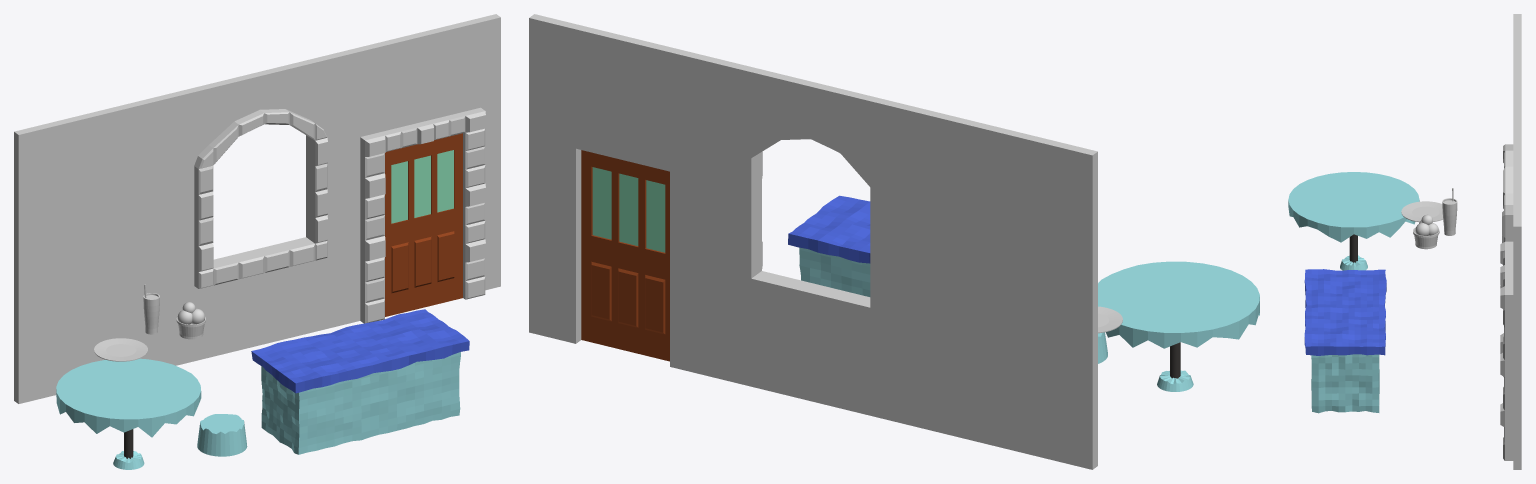
The model's file is PenguinRestaurantModels.fbx.
3 renders of one model, left to right at view 1: azimuth 30°, elevation 25°; view 2: azimuth 150°, elevation 25°; view 3: azimuth 270°, elevation 25°, orthographic. The views are drawn at different scales.
Parts seen in each view (by area): view 1: Wall_Basic, Wall_Window, Wall_Door_Frame, Bar, Door, Table, Chair, Plate, IceCream, Milkshake; view 2: Wall_Basic, Wall_Window, Wall_Door_Frame, Door, Table, Bar; view 3: Bar, Table, Wall_Door_Frame, Wall_Window, Plate, IceCream, Wall_Basic, Milkshake.
Boxes of the visible parts, left/top/right/bottom form: Wall_Basic: left=14, top=92, right=179, bottom=403; Wall_Window: left=175, top=53, right=340, bottom=364; Wall_Door_Frame: left=336, top=14, right=500, bottom=325; Bar: left=251, top=309, right=469, bottom=454; Door: left=385, top=133, right=462, bottom=316; Table: left=56, top=358, right=201, bottom=469; Chair: left=197, top=414, right=247, bottom=456; Plate: left=94, top=338, right=147, bottom=361; IceCream: left=176, top=302, right=205, bottom=339; Milkshake: left=143, top=284, right=159, bottom=334; Wall_Basic: left=904, top=105, right=1097, bottom=469; Wall_Window: left=717, top=60, right=909, bottom=423; Wall_Door_Frame: left=529, top=14, right=721, bottom=378; Door: left=581, top=150, right=669, bottom=361; Table: left=1098, top=261, right=1259, bottom=391; Bar: left=788, top=195, right=870, bottom=296; Bar: left=1304, top=269, right=1386, bottom=413; Table: left=1288, top=172, right=1419, bottom=270; Wall_Door_Frame: left=1500, top=155, right=1521, bottom=469; Wall_Window: left=1502, top=85, right=1521, bottom=242; Plate: left=1401, top=201, right=1443, bottom=222; IceCream: left=1413, top=214, right=1439, bottom=249; Wall_Basic: left=1513, top=14, right=1521, bottom=84; Milkshake: left=1442, top=188, right=1457, bottom=235.
Size of the model in its own units: 651 by 334 by 278.
